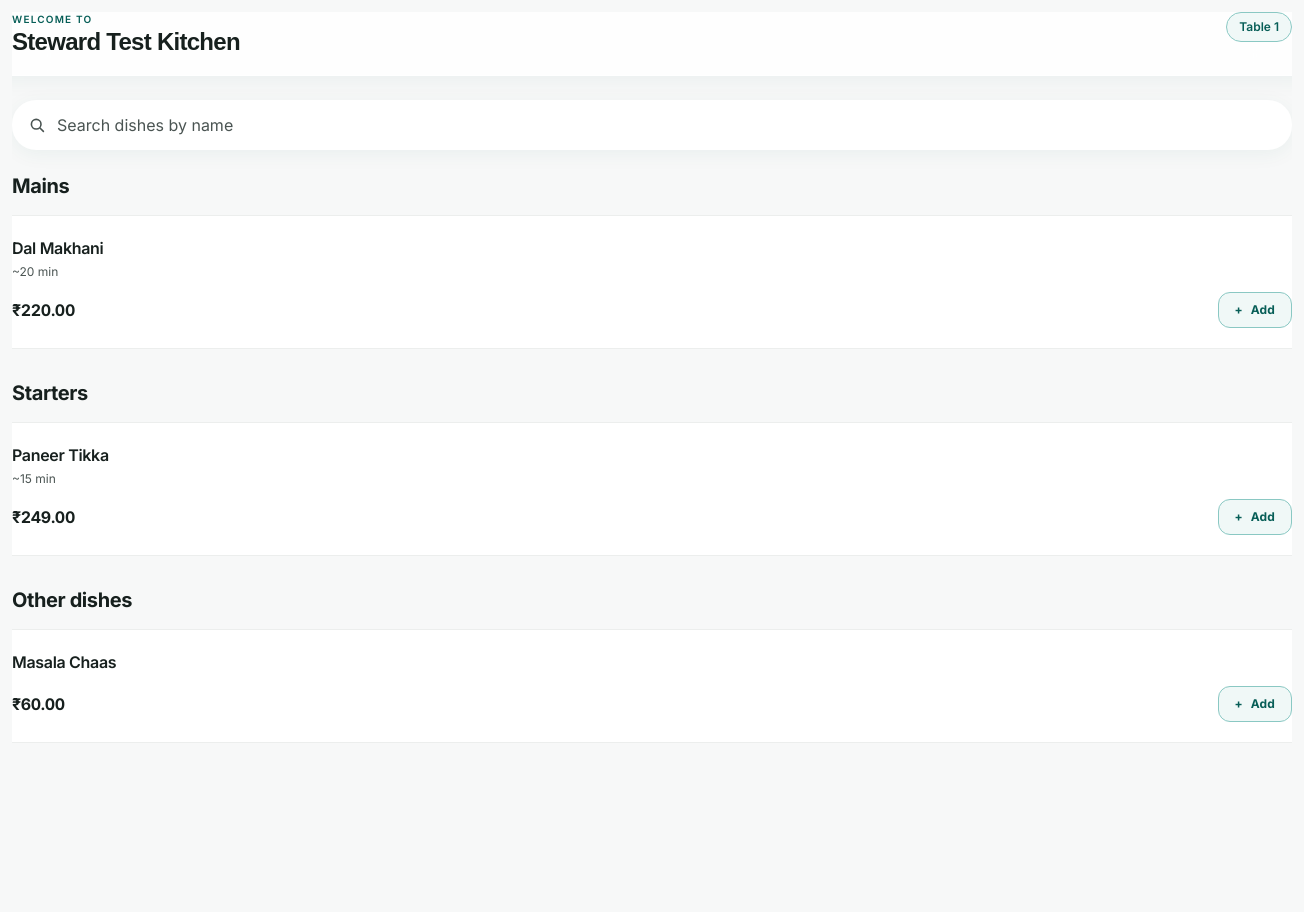
Scenario: the cart on the menu › shows exactly what the server returns, never its own arithmetic
What coordinates should you click on to do the following:
click the button with aria-label "Add Dal Makhani"
I would click on:
 (1255, 310)
Its box is x1=1218 y1=292 x2=1292 y2=328.
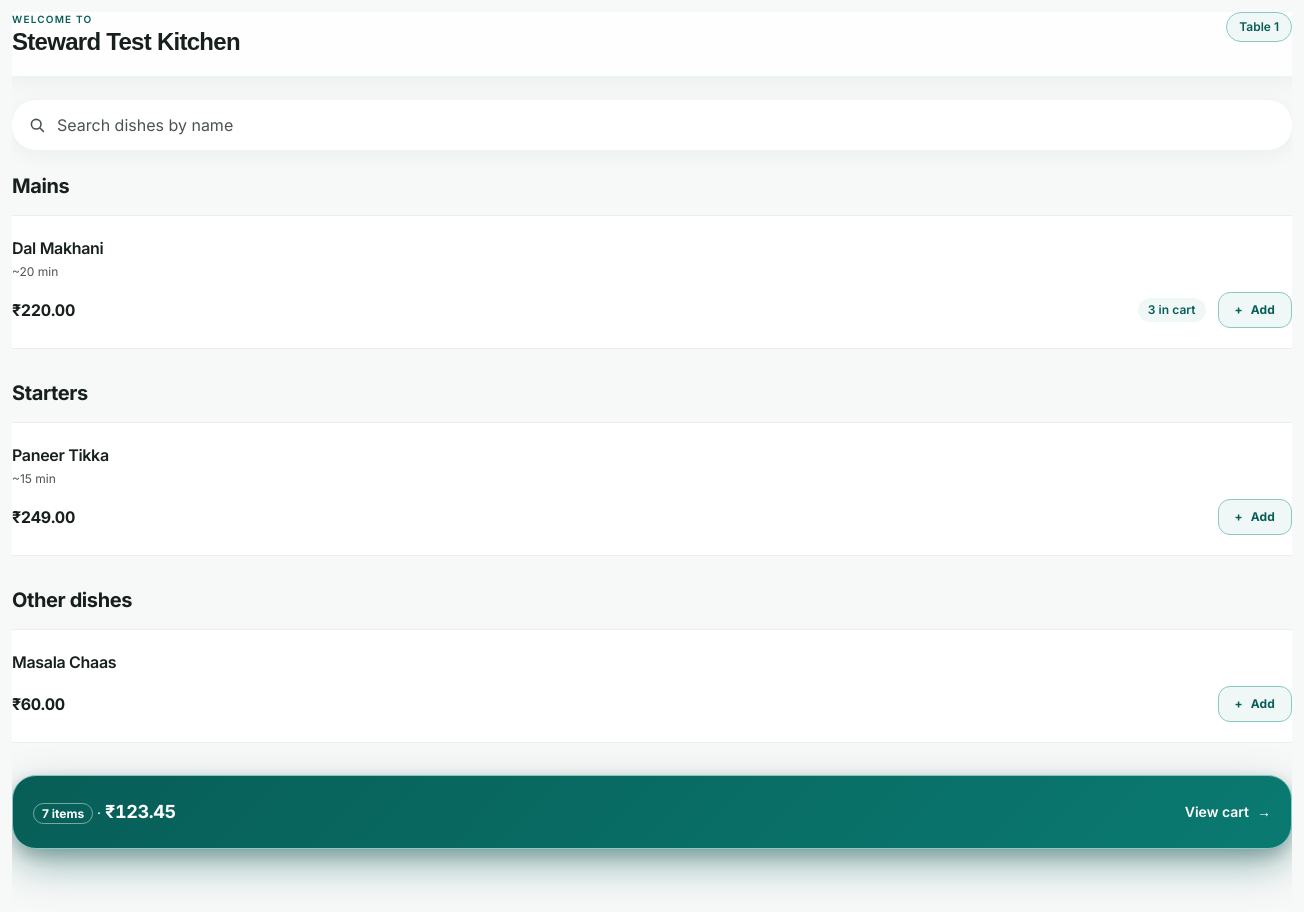
Result: the element named "Your cart" shows "7 items · ₹123.45" at x1=12 y1=775 x2=1292 y2=849
